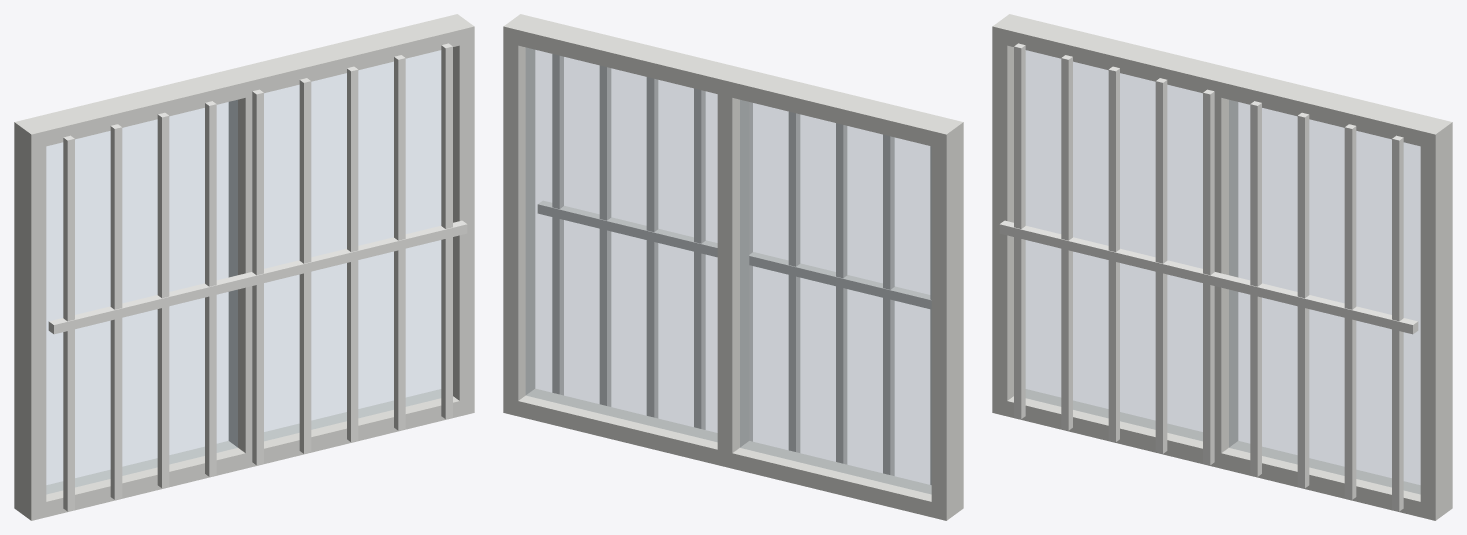
File: window-barred.glb
The picture shows the model from 3 angles, left to right: view 1: azimuth 30°, elevation 25°; view 2: azimuth 150°, elevation 25°; view 3: azimuth 330°, elevation 25°; orthographic projection.
Parts seen in each view (by area): view 1: window-barred; view 2: window-barred; view 3: window-barred.
Part boxes in pixels (left/top/right/bottom): window-barred: left=14, top=14, right=474, bottom=520; window-barred: left=503, top=14, right=963, bottom=520; window-barred: left=992, top=14, right=1452, bottom=520.
Size of the model in its own units: 1.5 by 1.25 by 0.145.
